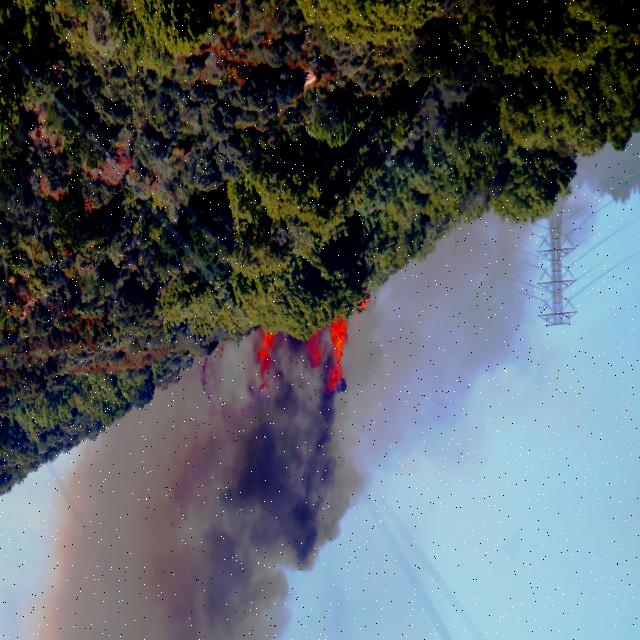api: (328, 316, 352, 400), (255, 330, 281, 402), (304, 329, 325, 373), (360, 297, 378, 315)
asap: (26, 319, 384, 640), (335, 141, 616, 493)
